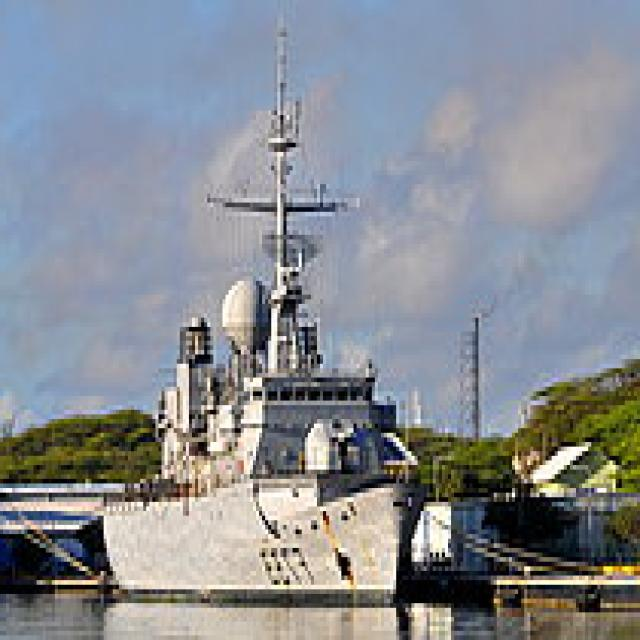Warship: (104, 9, 432, 599)
